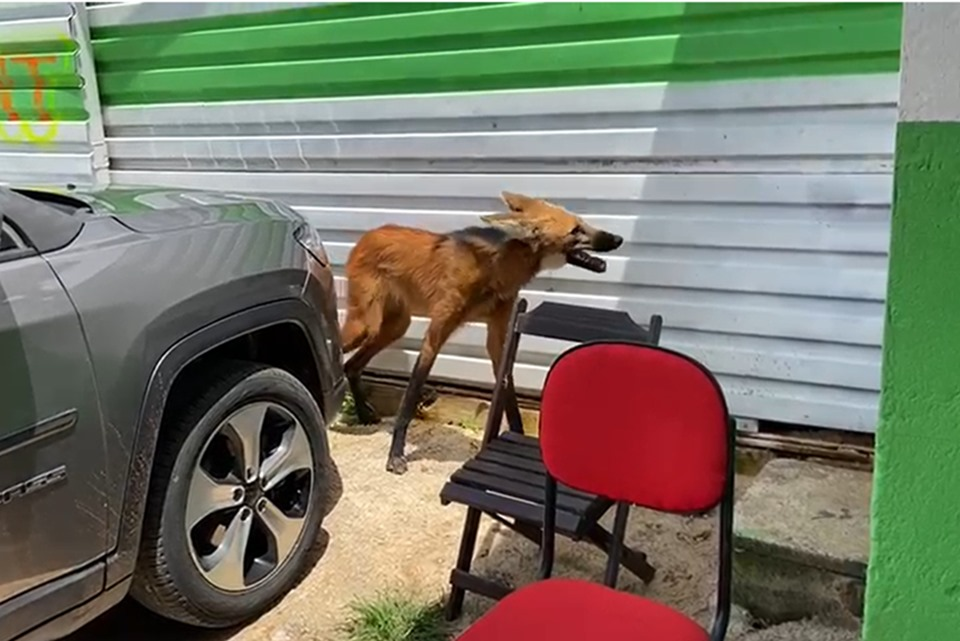LoboGuara: (344, 184, 623, 461)
